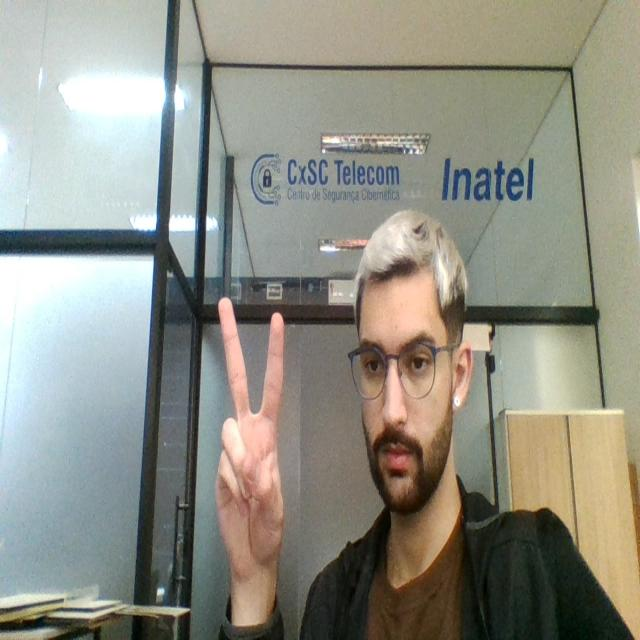V: (206, 279, 288, 592)
